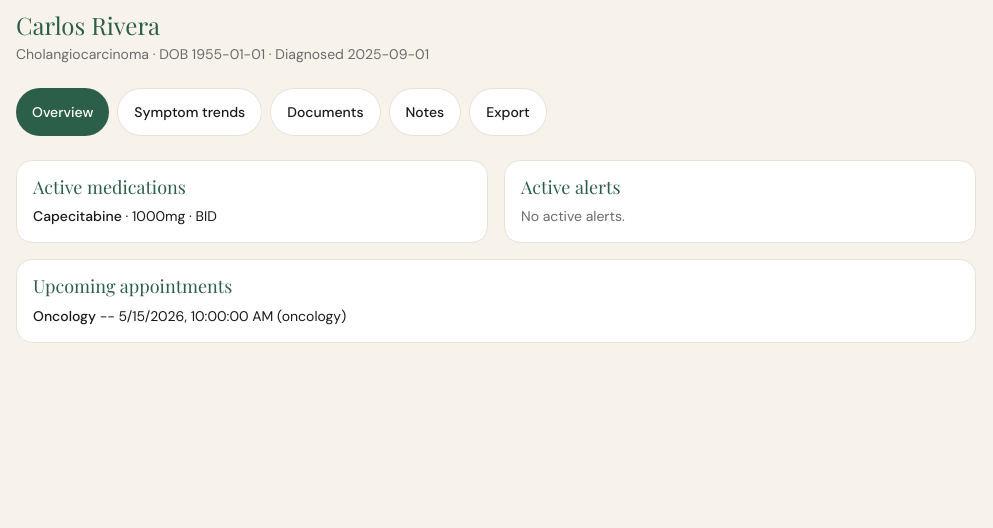
ProviderPatientDetail (web) › 58. Notes tab shows the add-note form
Expected: the text "Capecitabine" is shown, [33,207,122,225]
Click the tab "Notes": (425, 112) [388,88,461,136]
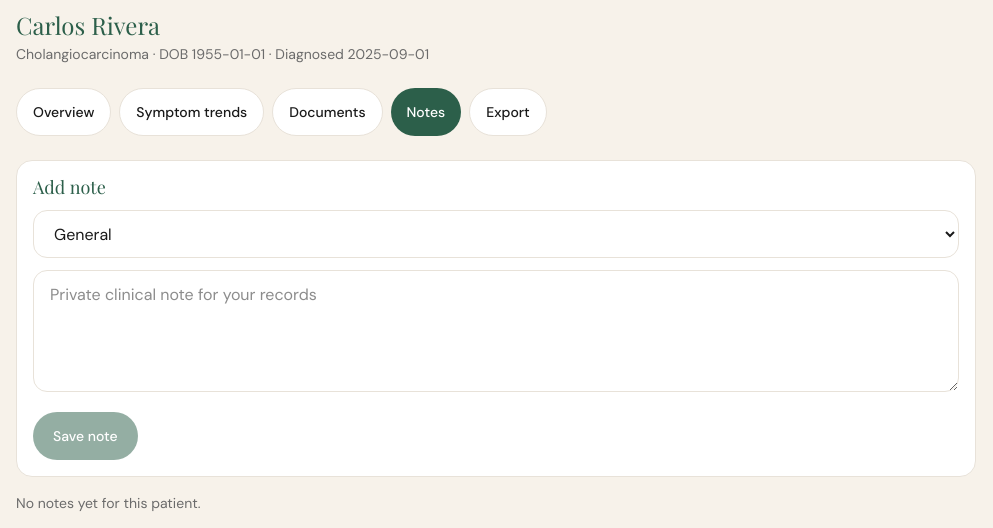
Result: the text box named "note text" is shown at [33,270,959,392]
Result: the dropdown named "note type" is shown at [33,210,959,258]
